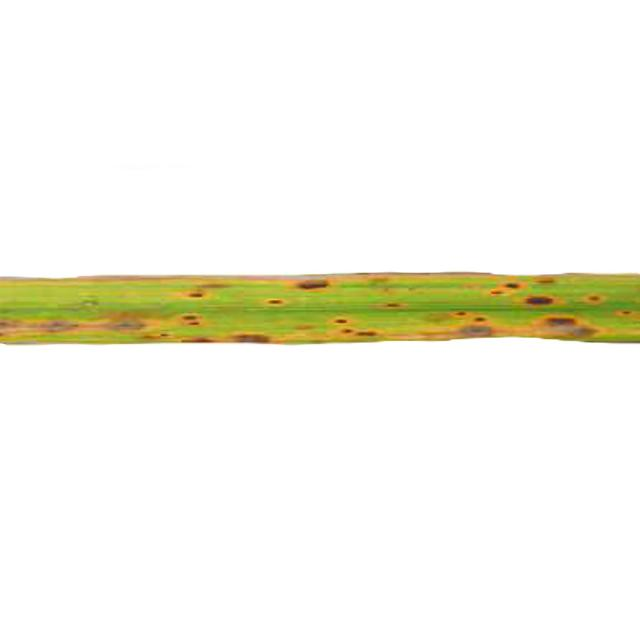Brown spot: (0, 263, 640, 353)
